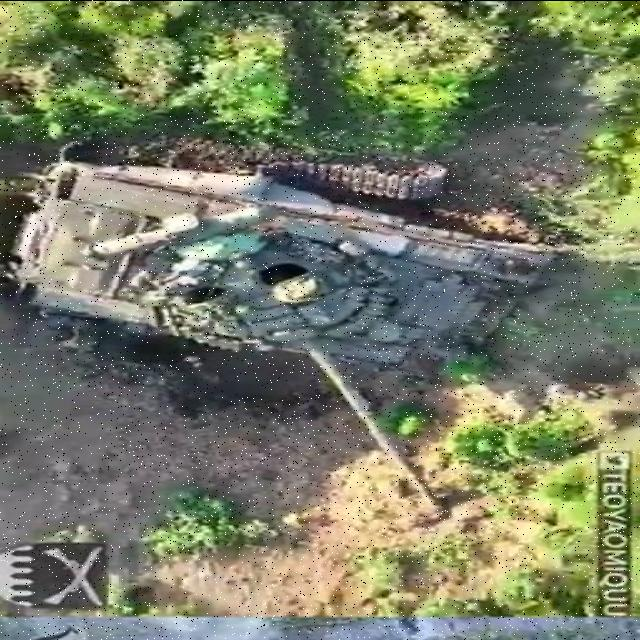TANK: (7, 154, 593, 514)
